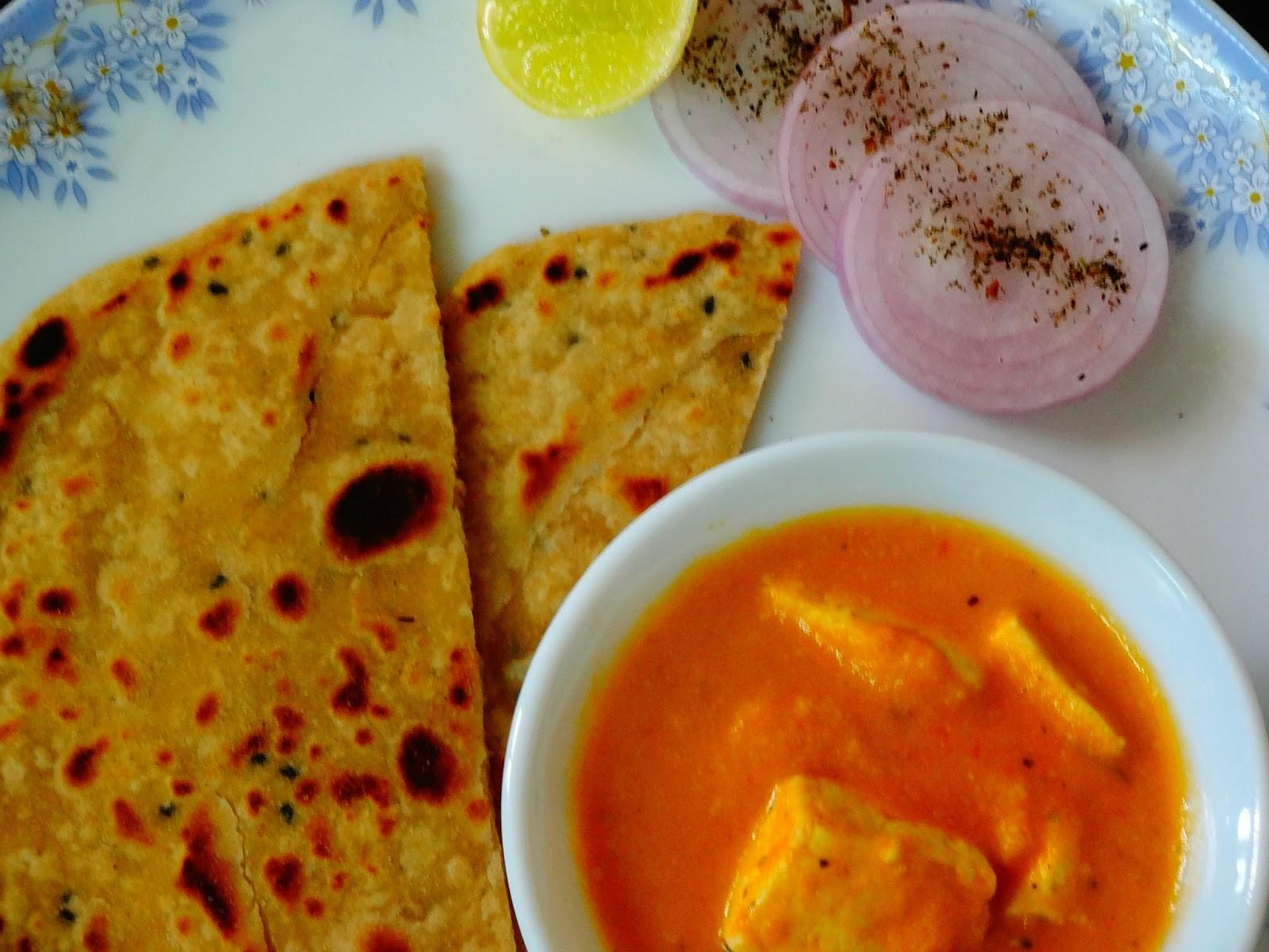ShahiPaneer: (553, 518, 1193, 952)
